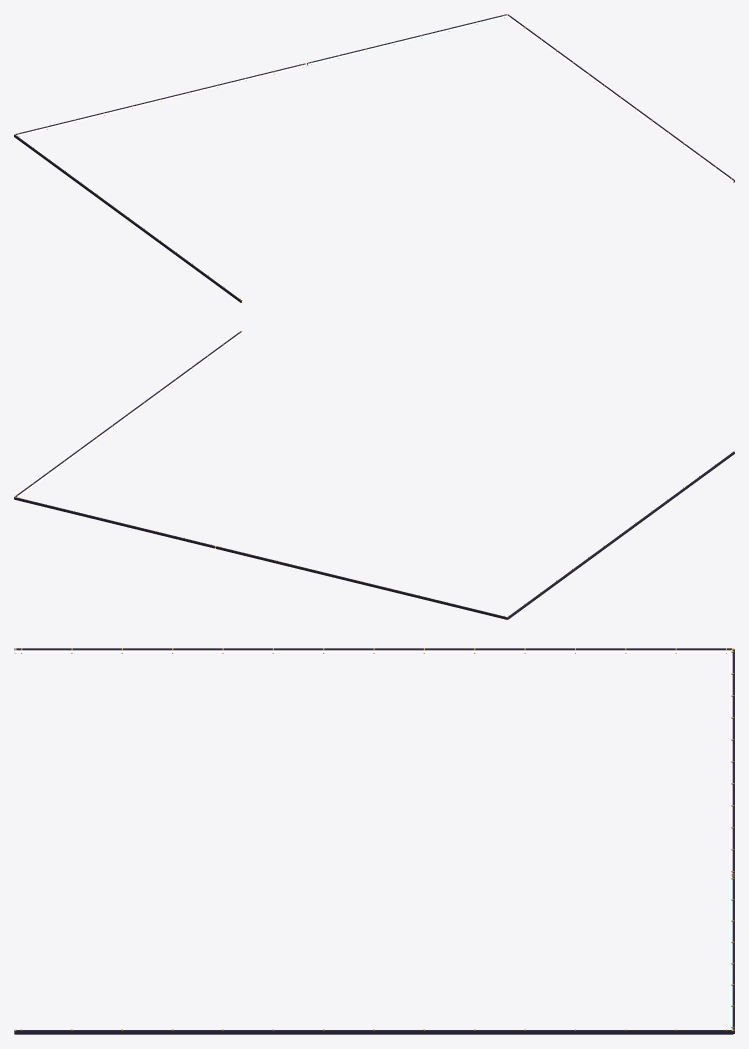
The model's file is shop_neon_strips.glb.
3 views of the same model, one above another, from view 1: azimuth 30°, elevation 25°; view 2: azimuth 150°, elevation 25°; view 3: azimuth 270°, elevation 25° (orthographic). The views are drawn at different scales.
Parts seen in each view (by area): view 1: Protected_wall_channel.002, Continuous_diffuser, Continuous_diffuser.003, Protected_wall_channel, Protected_wall_channel.003, Continuous_diffuser.001; view 2: Protected_wall_channel, Protected_wall_channel.002, Protected_wall_channel.001, Continuous_diffuser.003, Protected_wall_channel.003; view 3: Protected_wall_channel.003, Continuous_diffuser.002, Protected_wall_channel.002, Continuous_diffuser, Protected_wall_channel.
Part boxes in pixels (left/top/right/bottom): Protected_wall_channel.002: left=14, top=135, right=241, bottom=302; Continuous_diffuser: left=17, top=64, right=306, bottom=136; Continuous_diffuser.003: left=507, top=15, right=733, bottom=182; Protected_wall_channel: left=14, top=63, right=305, bottom=134; Protected_wall_channel.003: left=508, top=14, right=734, bottom=182; Continuous_diffuser.001: left=307, top=15, right=506, bottom=65; Protected_wall_channel: left=215, top=546, right=507, bottom=619; Protected_wall_channel.002: left=507, top=452, right=734, bottom=619; Protected_wall_channel.001: left=14, top=497, right=215, bottom=548; Continuous_diffuser.003: left=16, top=332, right=242, bottom=497; Protected_wall_channel.003: left=14, top=331, right=241, bottom=498; Protected_wall_channel.003: left=14, top=1030, right=733, bottom=1034; Continuous_diffuser.002: left=14, top=650, right=732, bottom=652; Protected_wall_channel.002: left=14, top=648, right=731, bottom=650; Continuous_diffuser: left=730, top=650, right=732, bottom=876; Protected_wall_channel: left=732, top=649, right=734, bottom=875.
Bounding box in the file's own units: 9.87 × 0.052 × 7.86.
